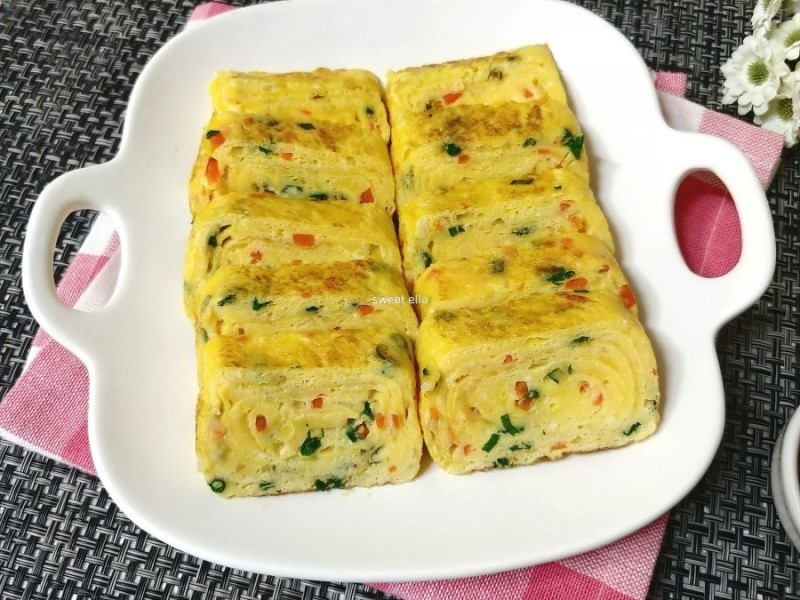gyelanmal-i: (176, 36, 666, 516)
